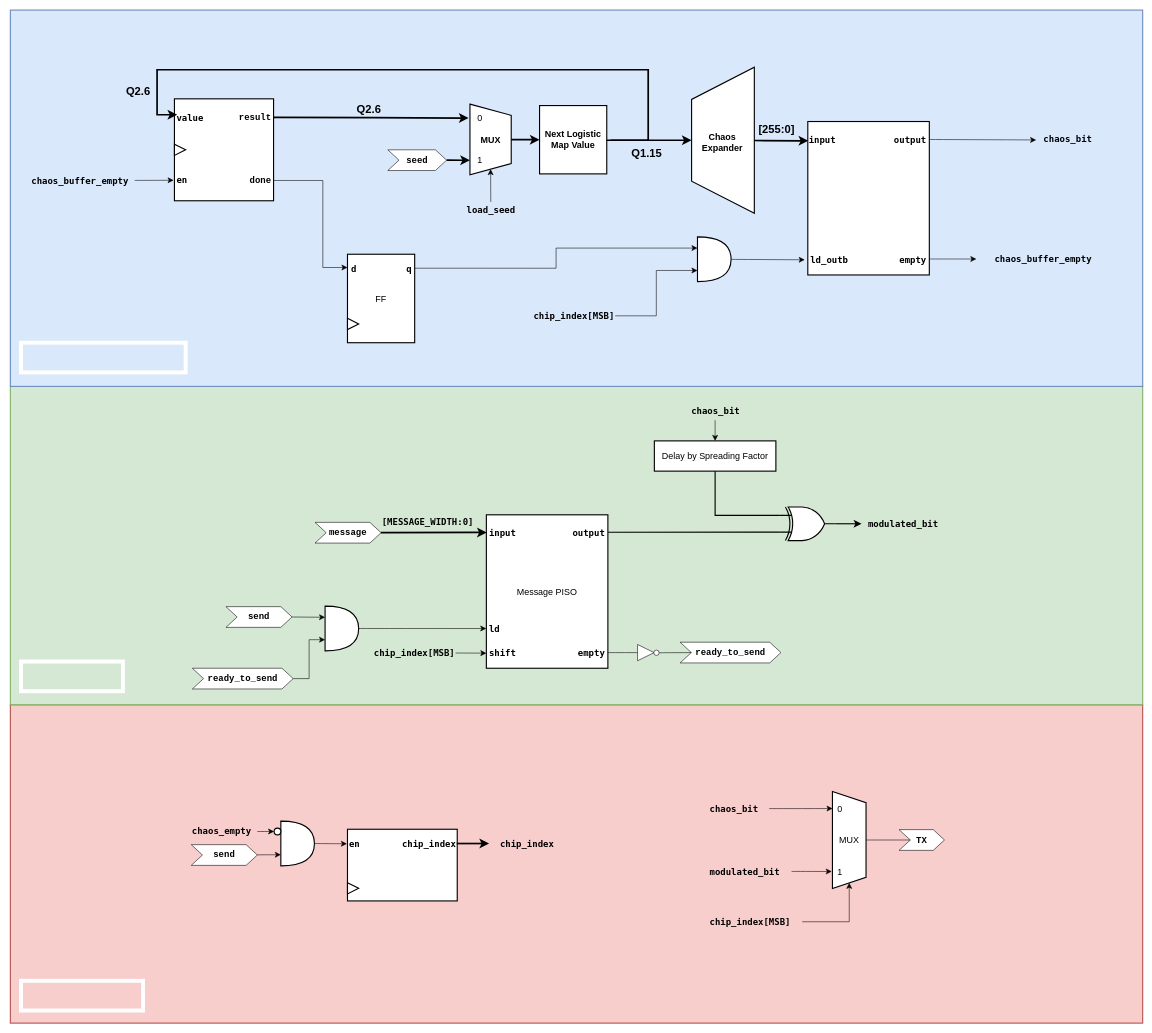
Image size: 1152x1033. Some labels were removed from this diagram. The box of each missing label's shape, as (x1, y1, x2, y2) in pixels:
Chaos Generator: (19, 340, 187, 374)
Chaos PISO: (807, 121, 930, 275)
Counter to 2 * spreading factor: (347, 828, 458, 901)
Logistic Map: (174, 98, 274, 201)
Modulator: (19, 659, 125, 693)
Serialization: (19, 979, 145, 1012)
